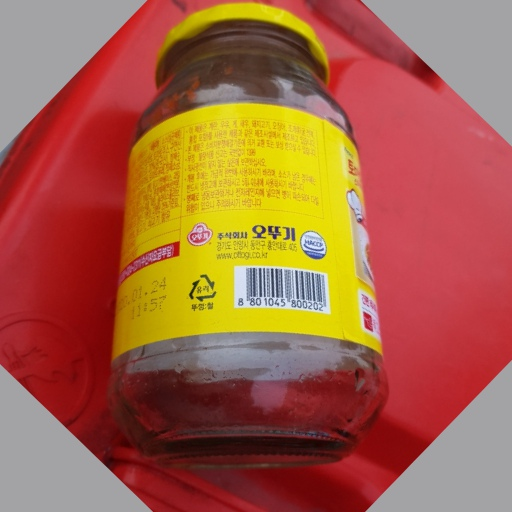Glass_5: (109, 3, 390, 459)
